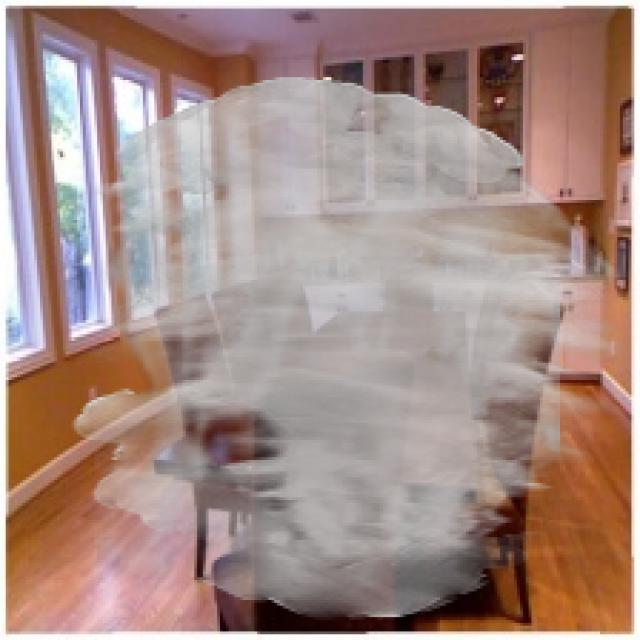Smoke: (71, 77, 626, 620)
